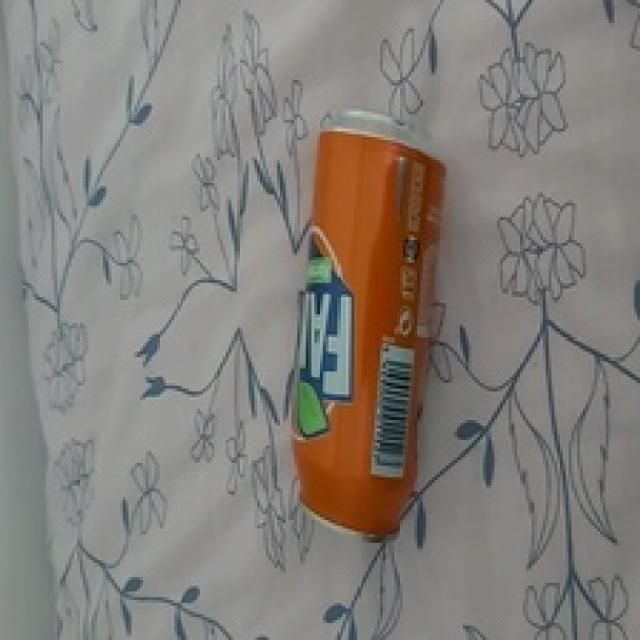recyclable: (286, 108, 452, 542)
